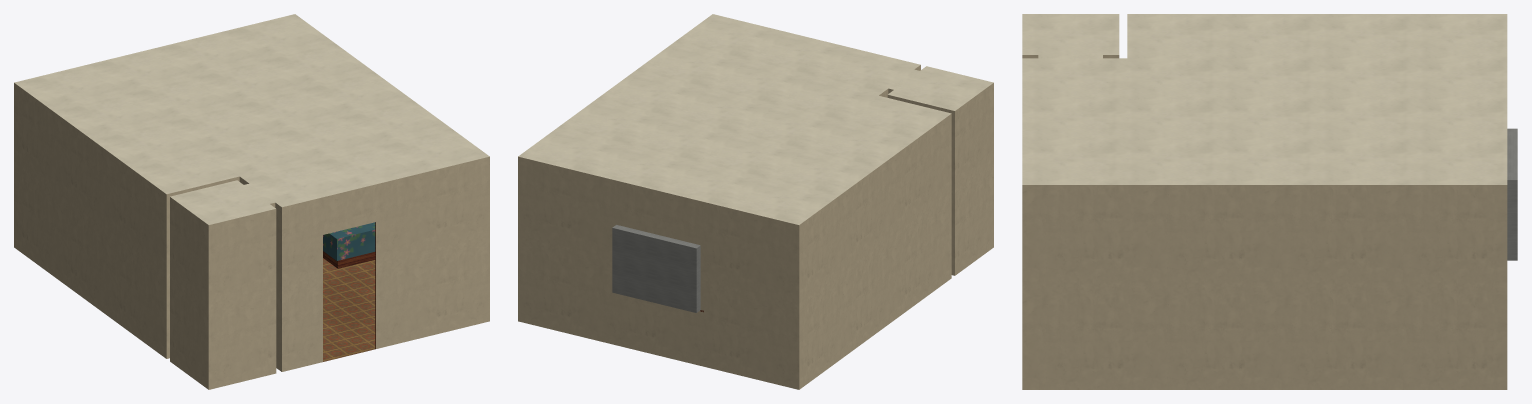
File: motel_b.glb
The picture shows the model from 3 angles, left to right: view 1: azimuth 30°, elevation 25°; view 2: azimuth 150°, elevation 25°; view 3: azimuth 270°, elevation 25°; orthographic projection. The views are drawn at different scales.
Visible parts, largest first — view 1: Wall_Room.001, Ceiling_Room.001, Carpet_Room.001, Bedspread, Wood_Laminate; view 2: Wall_Room.001, Ceiling_Room.001, Window_Frame; view 3: Wall_Room.001, Ceiling_Room.001, Window_Frame.
Boxes of the visible parts, x1,y1,x2,y2 form: Wall_Room.001: [14, 83, 489, 389]; Ceiling_Room.001: [14, 14, 489, 224]; Carpet_Room.001: [323, 258, 375, 361]; Bedspread: [323, 222, 375, 260]; Wood_Laminate: [323, 222, 375, 348]; Wall_Room.001: [518, 65, 993, 389]; Ceiling_Room.001: [518, 14, 993, 224]; Window_Frame: [612, 225, 700, 312]; Wall_Room.001: [1022, 55, 1507, 389]; Ceiling_Room.001: [1022, 14, 1507, 184]; Window_Frame: [1507, 128, 1517, 260].
Size of the model in its own units: 5 by 2.8 by 6.13.
Materials: 21 (14 with a texture image).
